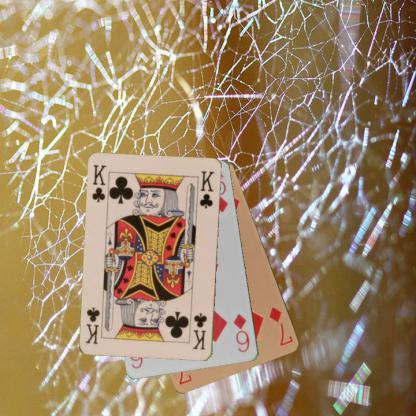6d: (231, 310, 252, 354)
7d: (266, 304, 295, 348)
Kc: (190, 310, 209, 352), (90, 162, 107, 204)
